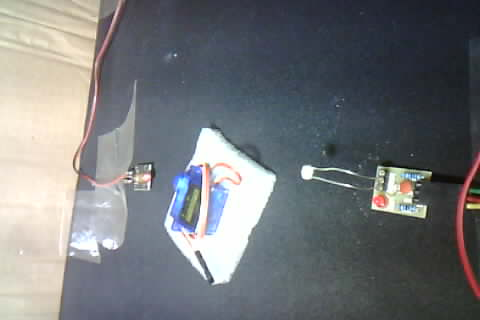motor: (158, 132, 269, 279)
